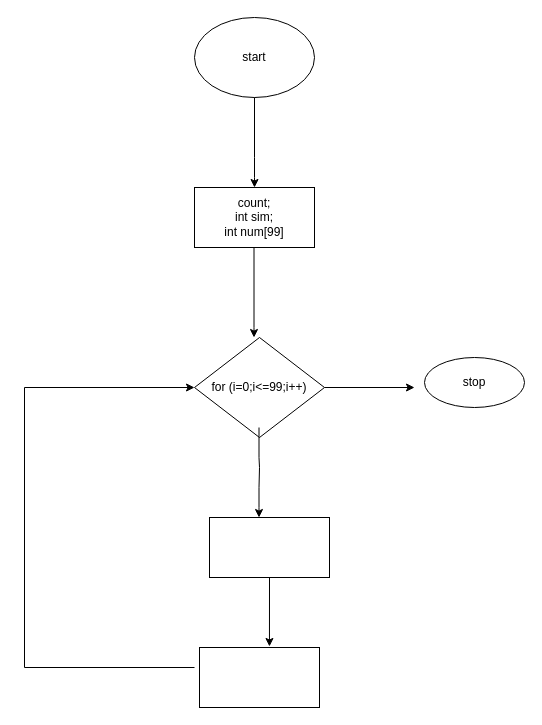
Some shapes in this 542 by 725 pixel diagram are drawn without their labels. The shapes that lost their labels are listed below. From the top down, each one's centre as x and y in pixels, then its label:
(269,547): sum=sum+num[i]
(259,677): i=++
